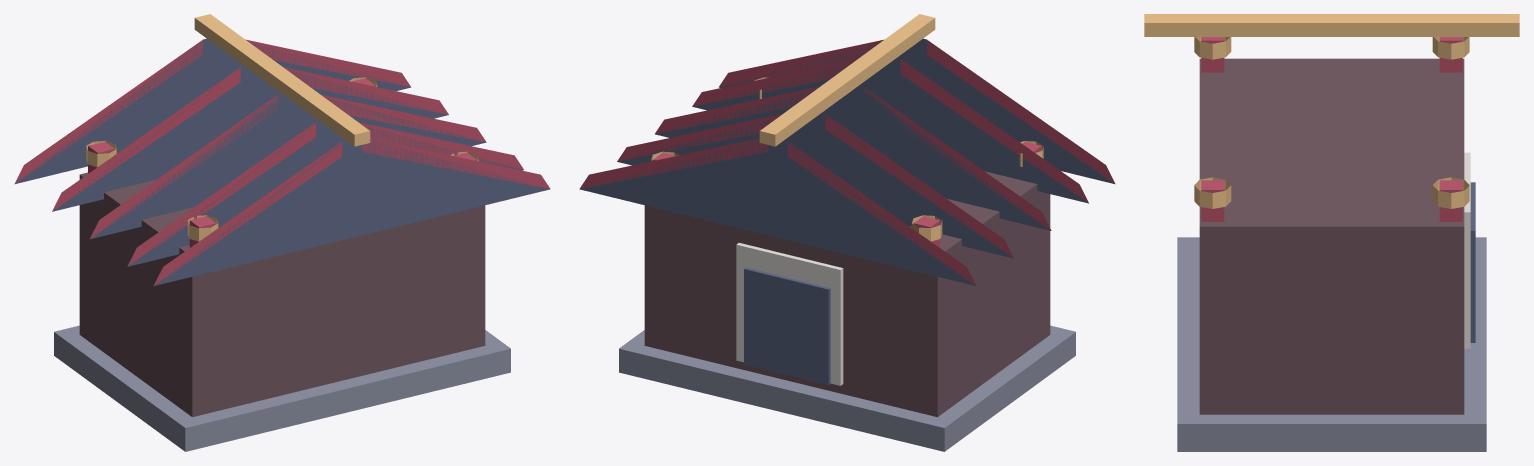
File: dojo_shrine_arched_roof.gltf
The picture shows the model from 3 angles, left to right: view 1: azimuth 30°, elevation 25°; view 2: azimuth 150°, elevation 25°; view 3: azimuth 270°, elevation 25°; orthographic projection. The views are drawn at different scales.
Visible parts, largest first — view 1: dojo_shrine_arched_roof; view 2: dojo_shrine_arched_roof; view 3: dojo_shrine_arched_roof.
Part boxes in pixels (x1=…): dojo_shrine_arched_roof: x1=14, y1=14, x2=550, y2=451; dojo_shrine_arched_roof: x1=579, y1=14, x2=1115, y2=451; dojo_shrine_arched_roof: x1=1144, y1=14, x2=1519, y2=451.
Size of the model in its own units: 12.2 by 8.5 by 8.5.
